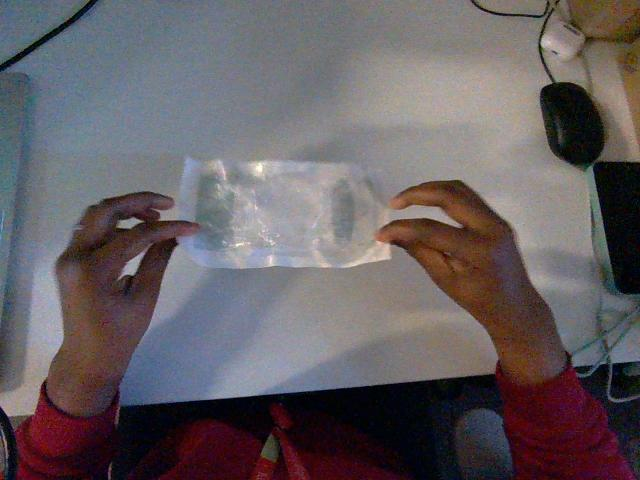gallipot: (179, 158, 389, 267)
